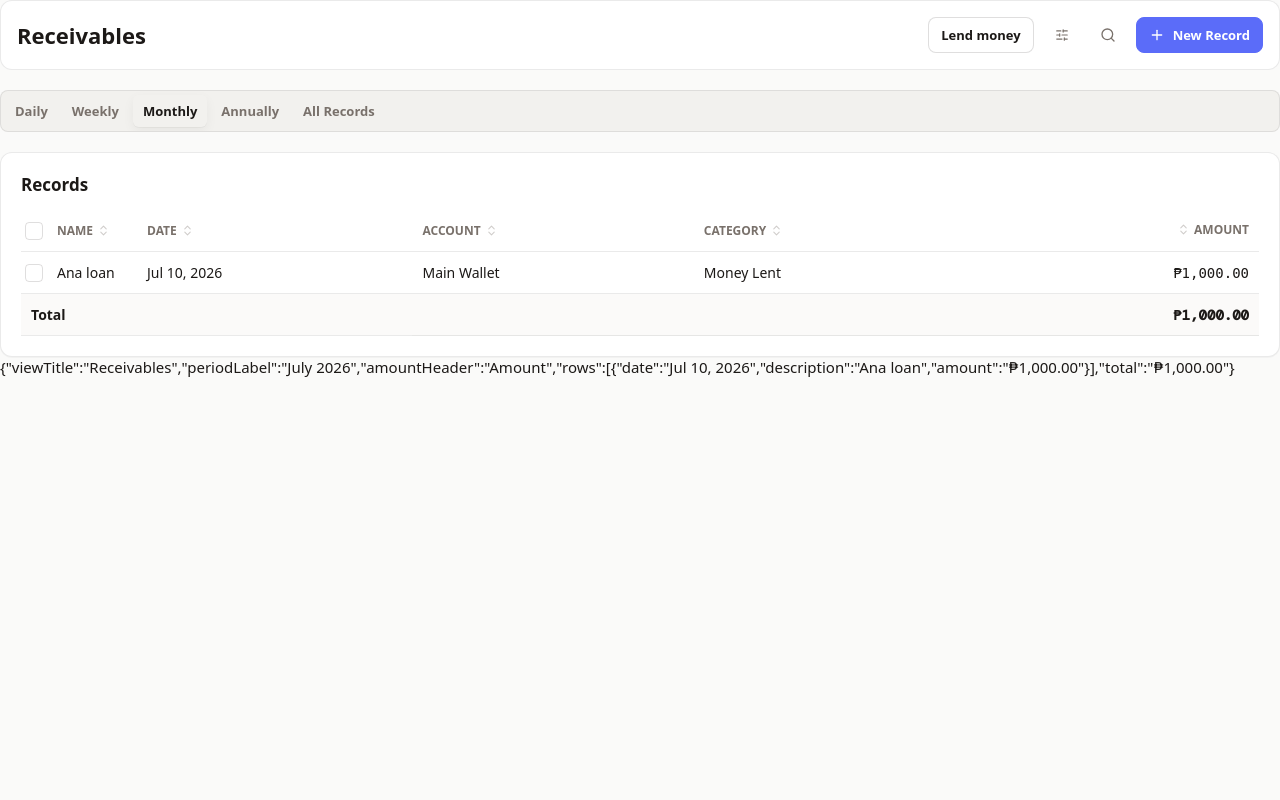
Test case: Money Lent › shows settlement errors and lets the user retry without losing the preview
What coordinates should you click on to do the following:
click the text "Ana loan"
I would click on:
 (79, 272)
Its box is [21,252,137,294].
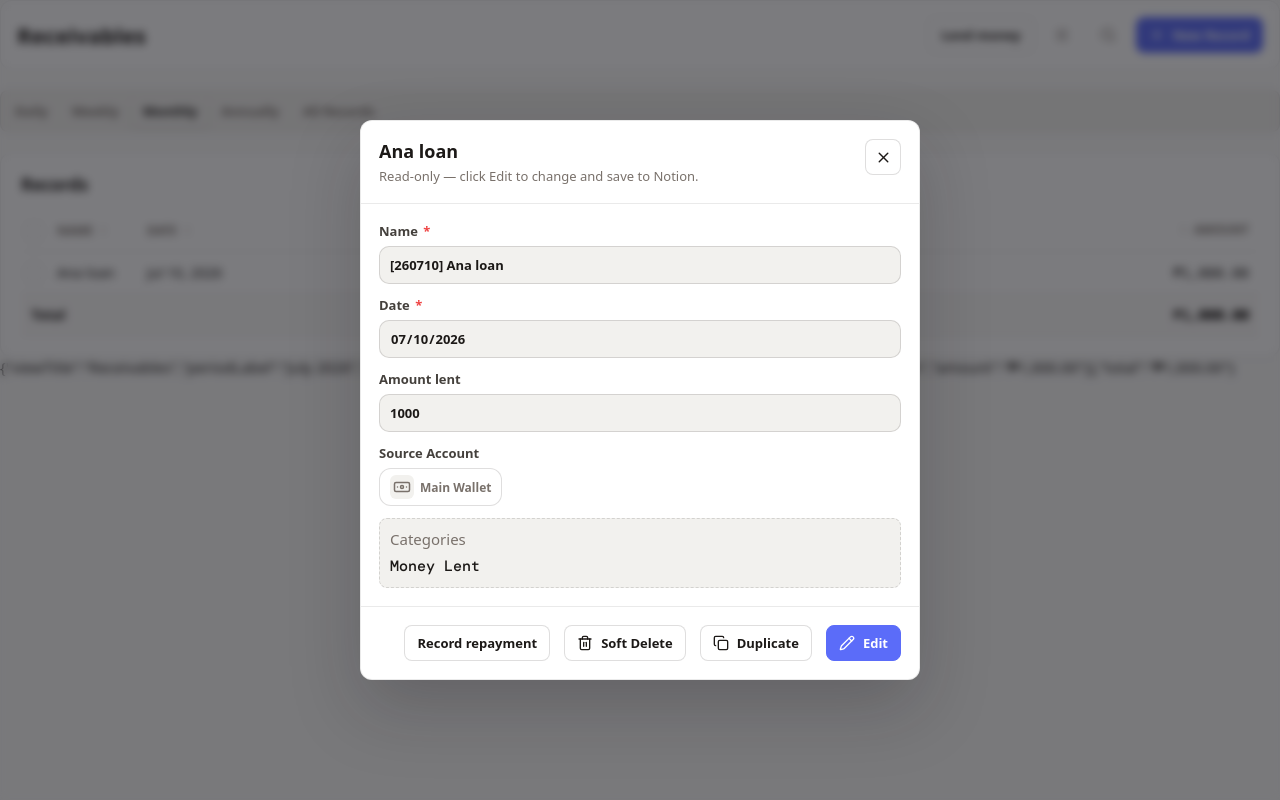
What coordinates should you click on to do the following:
click the button "Record repayment"
I would click on:
 (477, 643)
Its box is [404,625,550,661].
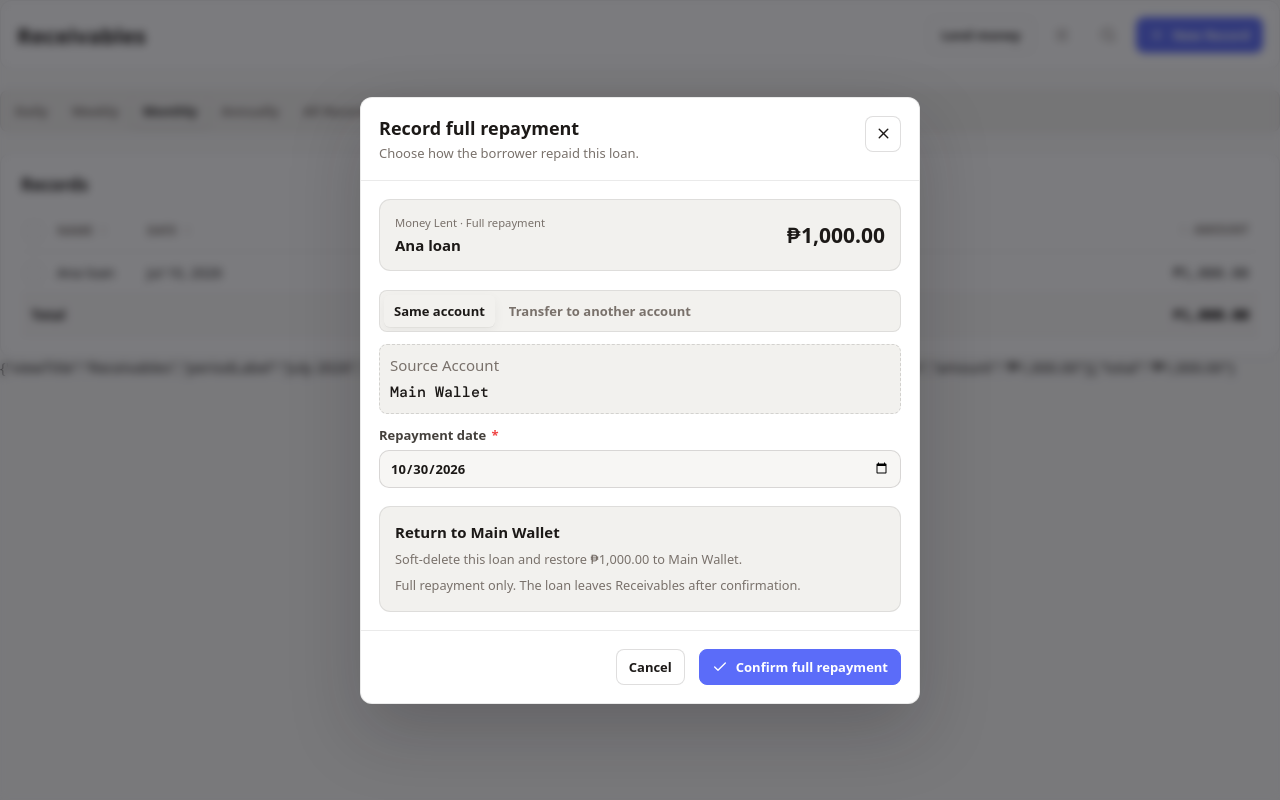
What coordinates should you click on to do the following:
click the button "Confirm full repayment"
I would click on:
 (800, 666)
Its box is [699,648,901,684].
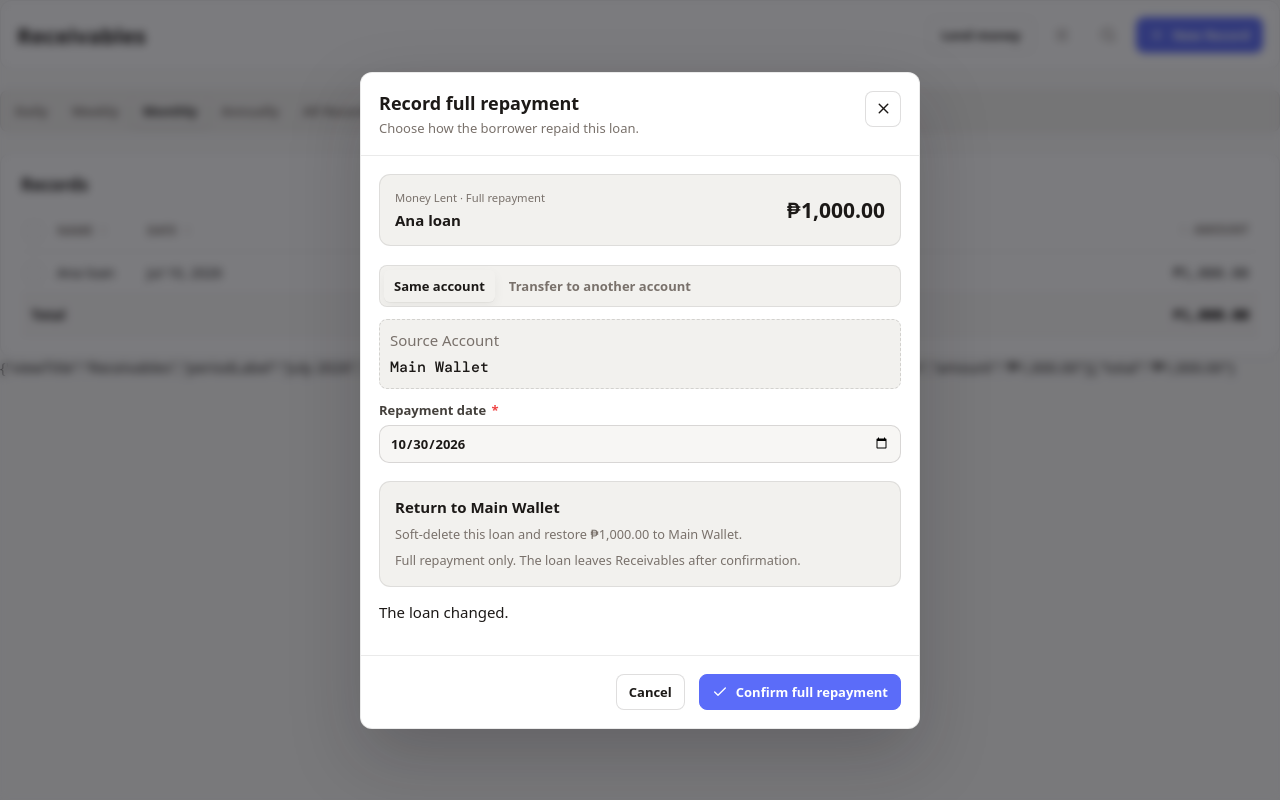
Check: the dialog "Record full repayment" is shown, box [360,72,920,728]
Check: the message reads "The loan changed.", box [379,602,509,622]
